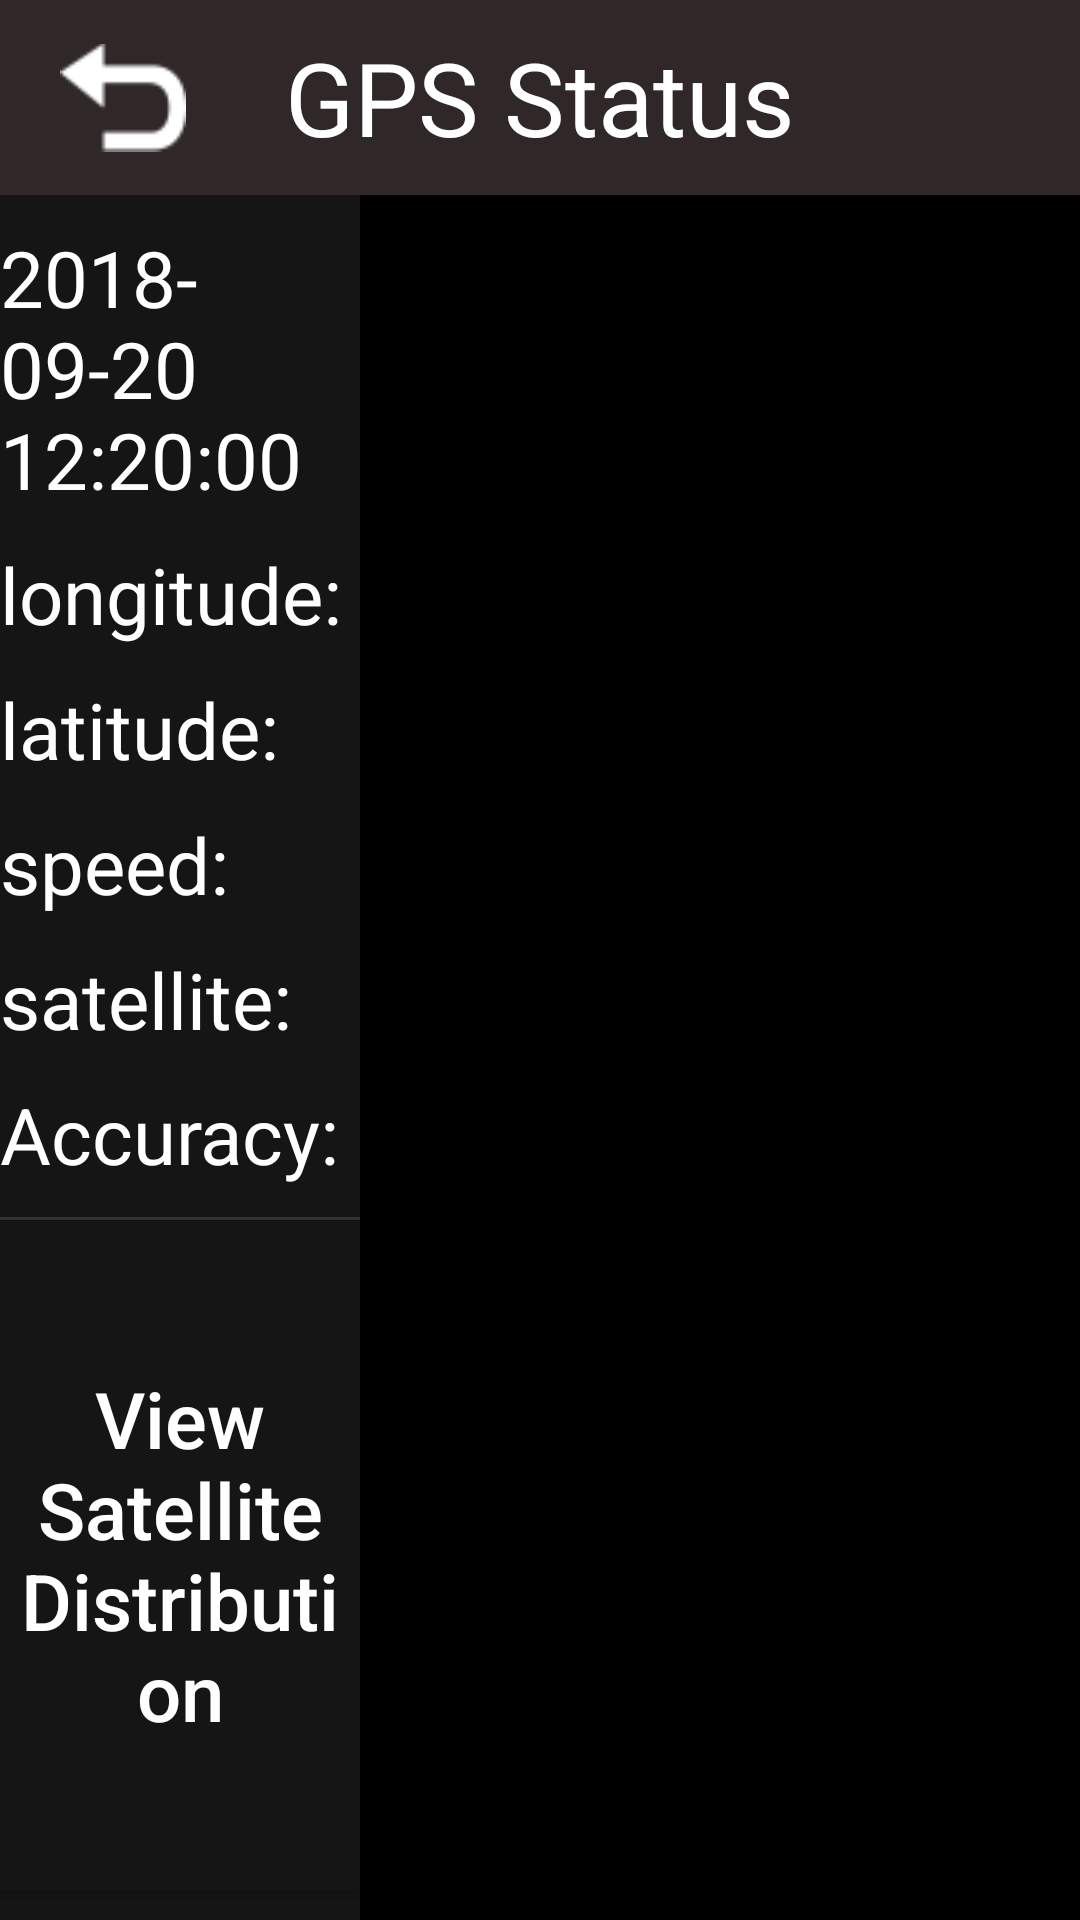

Named icons in this screenshot (1080w x 1920h) and their bounding boxes, (x1, y1, x2, y2):
back: (60, 44, 186, 152)
